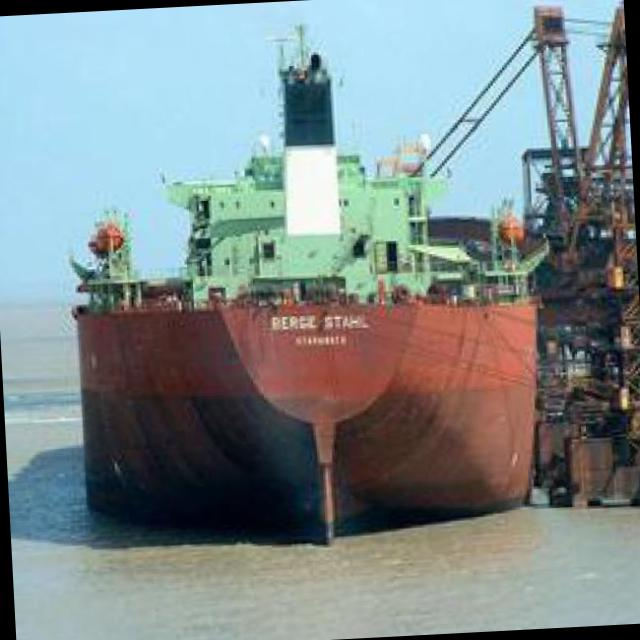boat: (46, 140, 570, 558)
